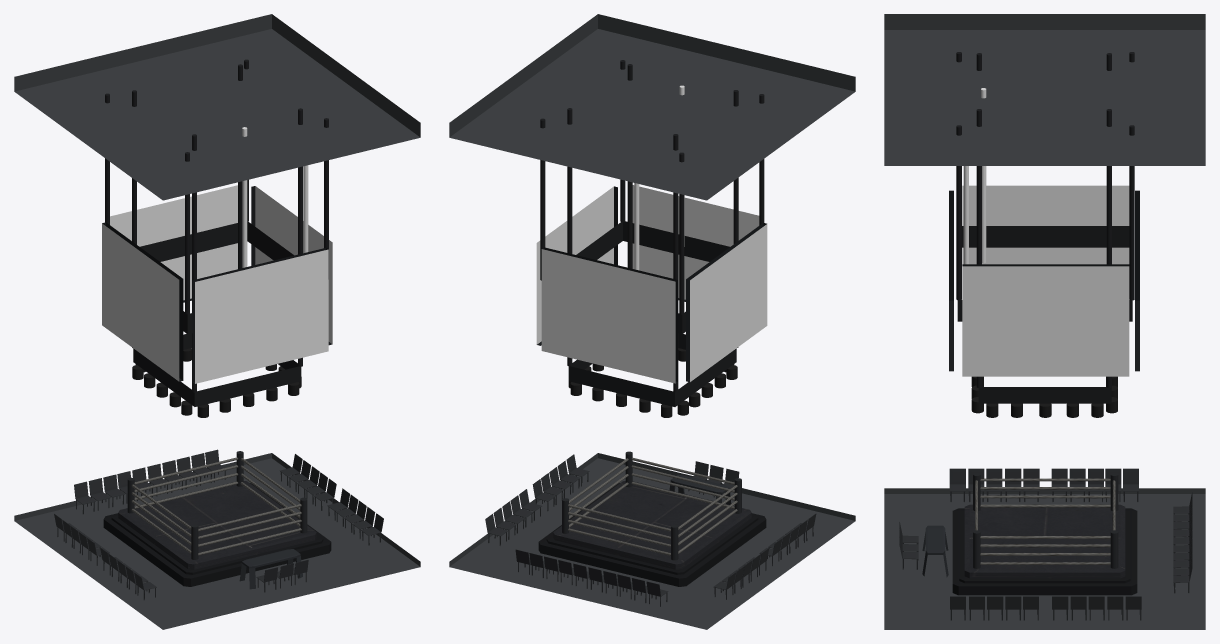
3 renders of one model, left to right at view 1: azimuth 30°, elevation 25°; view 2: azimuth 150°, elevation 25°; view 3: azimuth 270°, elevation 25°, orthographic. The views are drawn at different scales.
Parts seen in each view (by area): view 1: Plane.006, Plane, Plane.002, Plane.005, Cube, Plane.003, Cube.002, Plane.004, Cube.003, Cube.001, Cylinder.003, Cylinder.004 (+8 smaller); view 2: Plane.006, Plane, Plane.003, Plane.005, Cube, Plane.002, Cube.002, Plane.004, Cube.003, Cube.001, Cylinder.004, Cylinder.003 (+9 smaller); view 3: Plane.006, Plane, Plane.004, Cube, Plane.005, Cube.002, Cube.001, Cube.003, Cylinder.001, Cylinder.002, Cylinder, Plane.002 (+8 smaller).
Boxes of the visible parts, <box> form: Plane.006: <box>14,14,420,200</box>; Plane: <box>14,453,420,629</box>; Plane.002: <box>192,247,328,383</box>; Plane.005: <box>102,222,183,381</box>; Cube: <box>118,481,316,569</box>; Plane.003: <box>110,185,237,302</box>; Cube.002: <box>103,483,331,586</box>; Plane.004: <box>251,186,332,345</box>; Cube.003: <box>133,333,301,406</box>; Cube.001: <box>140,221,293,334</box>; Cylinder.003: <box>198,504,301,555</box>; Cylinder.004: <box>134,457,238,508</box>; Plane.006: <box>449,14,855,200</box>; Plane: <box>449,453,855,629</box>; Plane.003: <box>541,247,677,383</box>; Plane.005: <box>686,223,767,382</box>; Cube: <box>553,481,751,569</box>; Plane.002: <box>632,185,759,301</box>; Cube.002: <box>538,483,766,586</box>; Plane.004: <box>536,186,617,345</box>; Cube.003: <box>568,333,736,406</box>; Cube.001: <box>576,221,729,334</box>; Cylinder.004: <box>568,504,670,555</box>; Cylinder.003: <box>631,457,734,509</box>; Plane.006: <box>884,14,1205,165</box>; Plane: <box>884,488,1205,629</box>; Plane.004: <box>962,264,1129,376</box>; Cube: <box>964,504,1125,578</box>; Plane.005: <box>962,185,1129,264</box>; Cube.002: <box>952,508,1137,595</box>; Cube.001: <box>957,226,1132,321</box>; Cube.003: <box>978,387,1111,403</box>; Cylinder.001: <box>980,478,1110,507</box>; Cylinder.002: <box>980,536,1110,564</box>; Cylinder: <box>973,472,1118,568</box>; Plane.002: <box>949,190,953,371</box>.
Bounding box in the file's own units: 10 × 16.51 × 10.
Materials: 63 (5 with a texture image).
